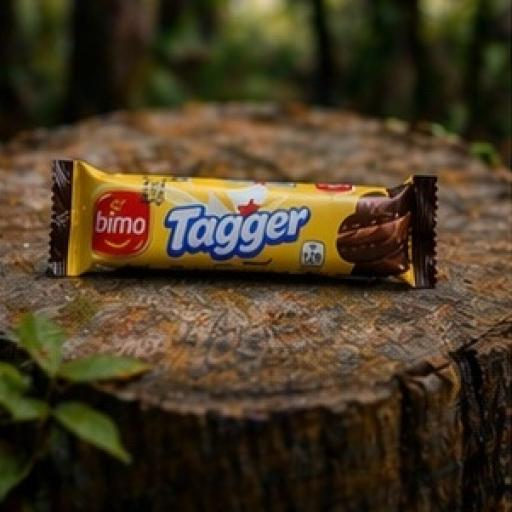tagger: (29, 113, 491, 342)
